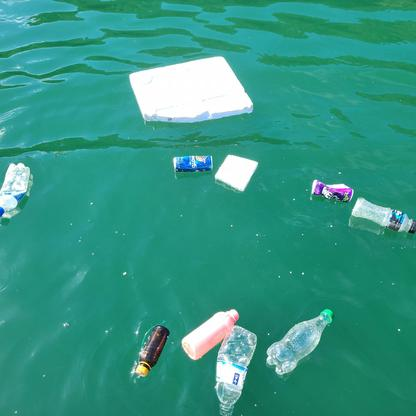can: (310, 180, 354, 202), (173, 154, 214, 171)
foam: (129, 55, 256, 122), (216, 154, 259, 193)
plastic bottle: (265, 310, 336, 372), (215, 326, 253, 415), (180, 308, 240, 359), (352, 199, 416, 234), (136, 321, 170, 376), (1, 163, 30, 219)
